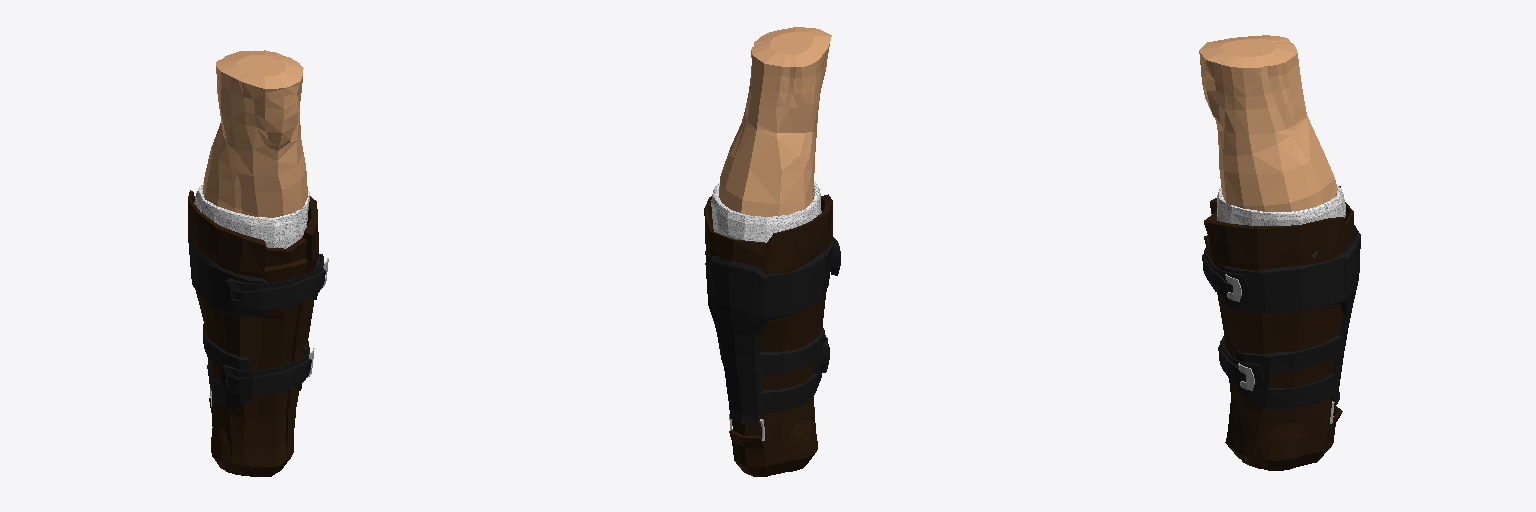
3 views of the same model, side by side, from view 1: azimuth 30°, elevation 25°; view 2: azimuth 150°, elevation 25°; view 3: azimuth 270°, elevation 25° (orthographic).
Visible parts, largest first — view 1: Mesh1 Model, Mesh4 Model, Mesh2 Model, Mesh5 Model, Mesh6 Model; view 2: Mesh1 Model, Mesh4 Model, Mesh2 Model; view 3: Mesh1 Model, Mesh4 Model, Mesh2 Model, Mesh6 Model, Mesh5 Model.
Boxes of the visible parts, <box> form: Mesh1 Model: <box>188,190,319,476</box>; Mesh4 Model: <box>203,50,307,217</box>; Mesh2 Model: <box>194,180,309,248</box>; Mesh5 Model: <box>225,254,325,309</box>; Mesh6 Model: <box>221,346,311,396</box>; Mesh1 Model: <box>704,194,834,476</box>; Mesh4 Model: <box>719,27,831,216</box>; Mesh2 Model: <box>711,181,821,242</box>; Mesh1 Model: <box>1204,186,1360,470</box>; Mesh4 Model: <box>1199,35,1337,211</box>; Mesh2 Model: <box>1217,185,1345,225</box>; Mesh6 Model: <box>1218,336,1263,389</box>; Mesh5 Model: <box>1202,248,1247,300</box>.
Size of the model in its own units: 5.23 by 19.41 by 6.99.
6 materials, 1 textured.